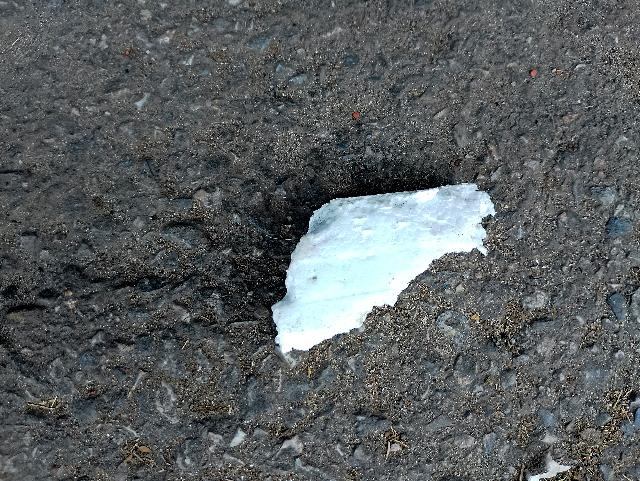cocksheet: (230, 116, 480, 382)
